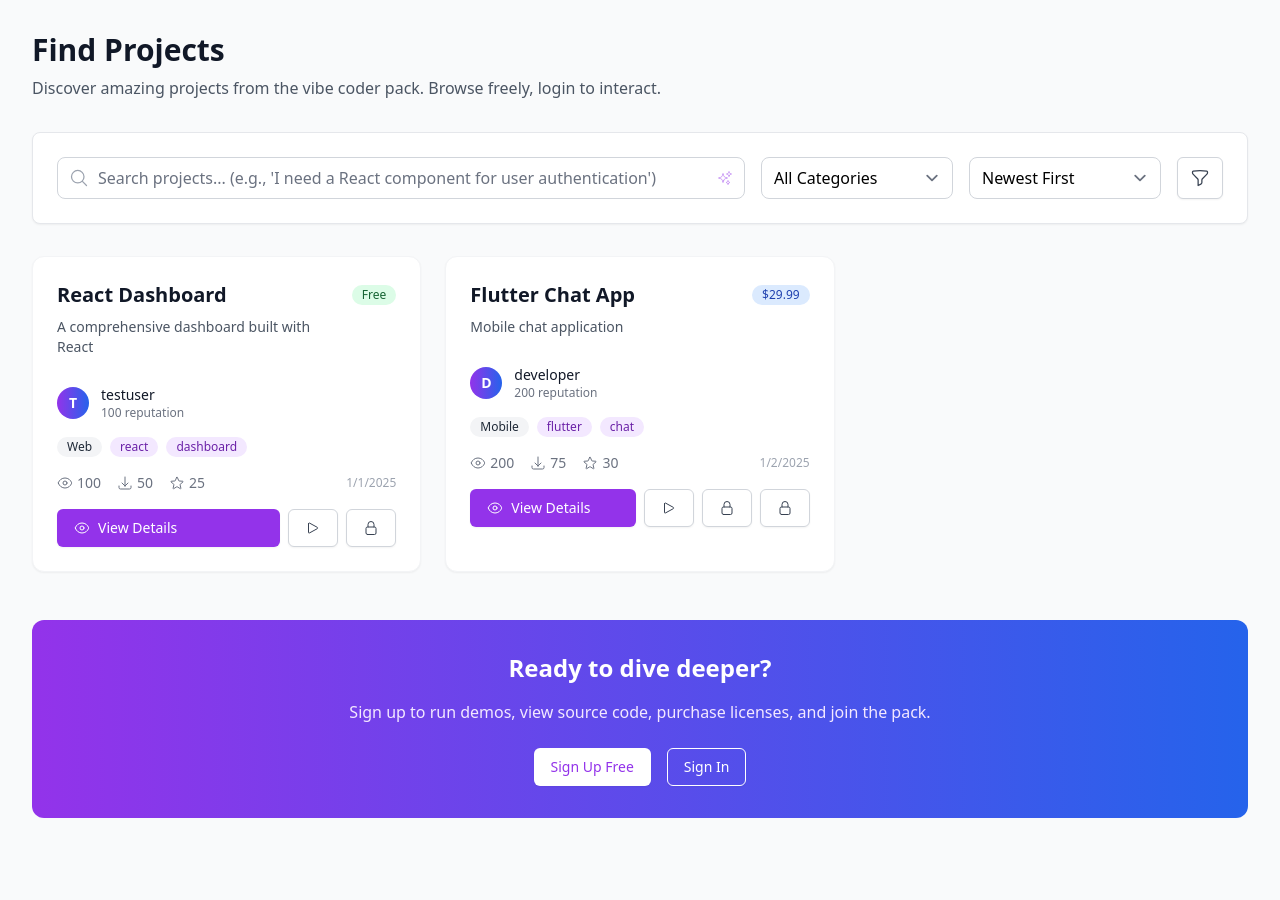
Scenario: FindProjects Component › shows loading state during AI search
The width and height of the screenshot is (1280, 900).
Type "test query" into the field with placeholder "Search projects" at (401, 178), box 57,157 -> 745,199
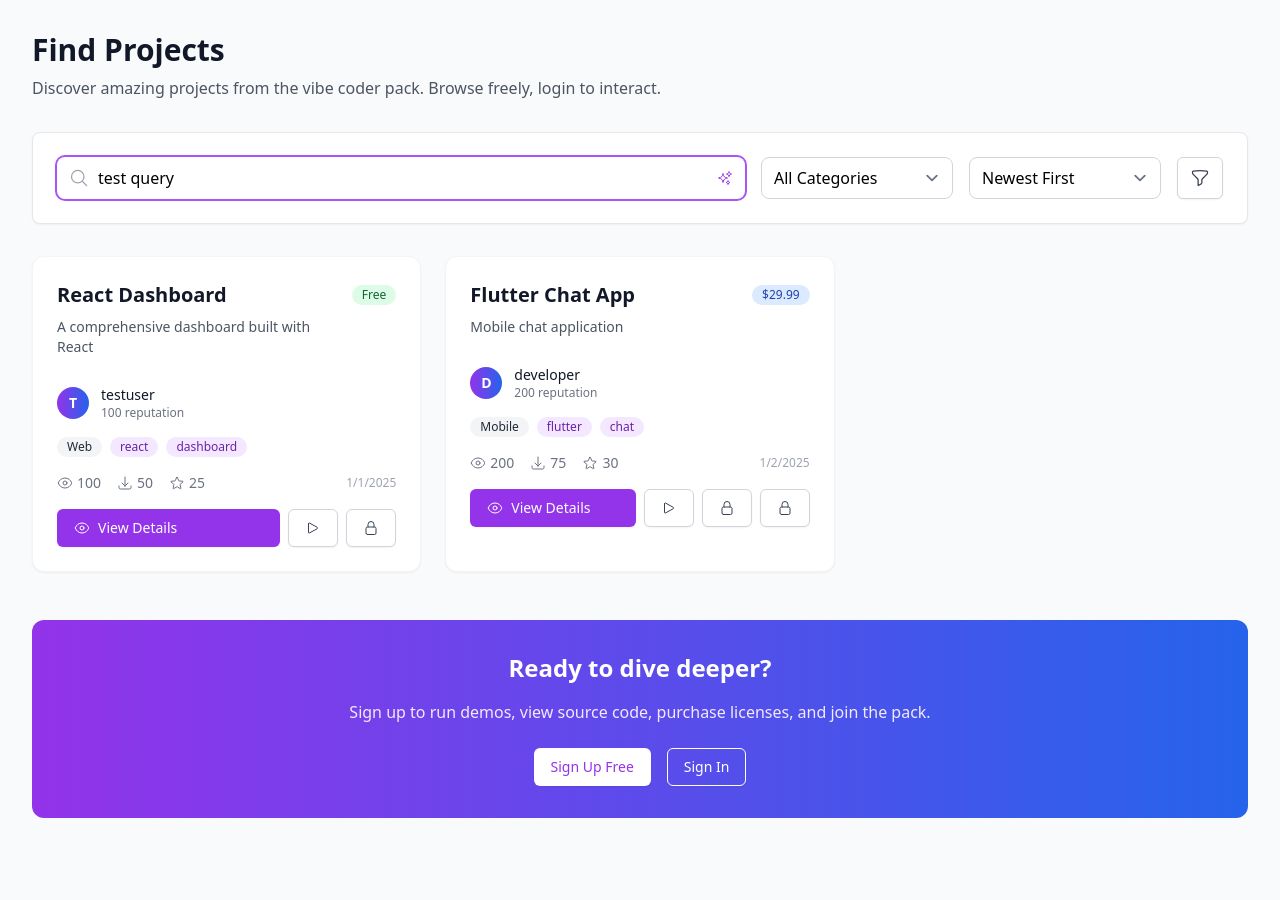
Click the button titled "AI Smart Search" at (725, 178), box 713,166 -> 737,190
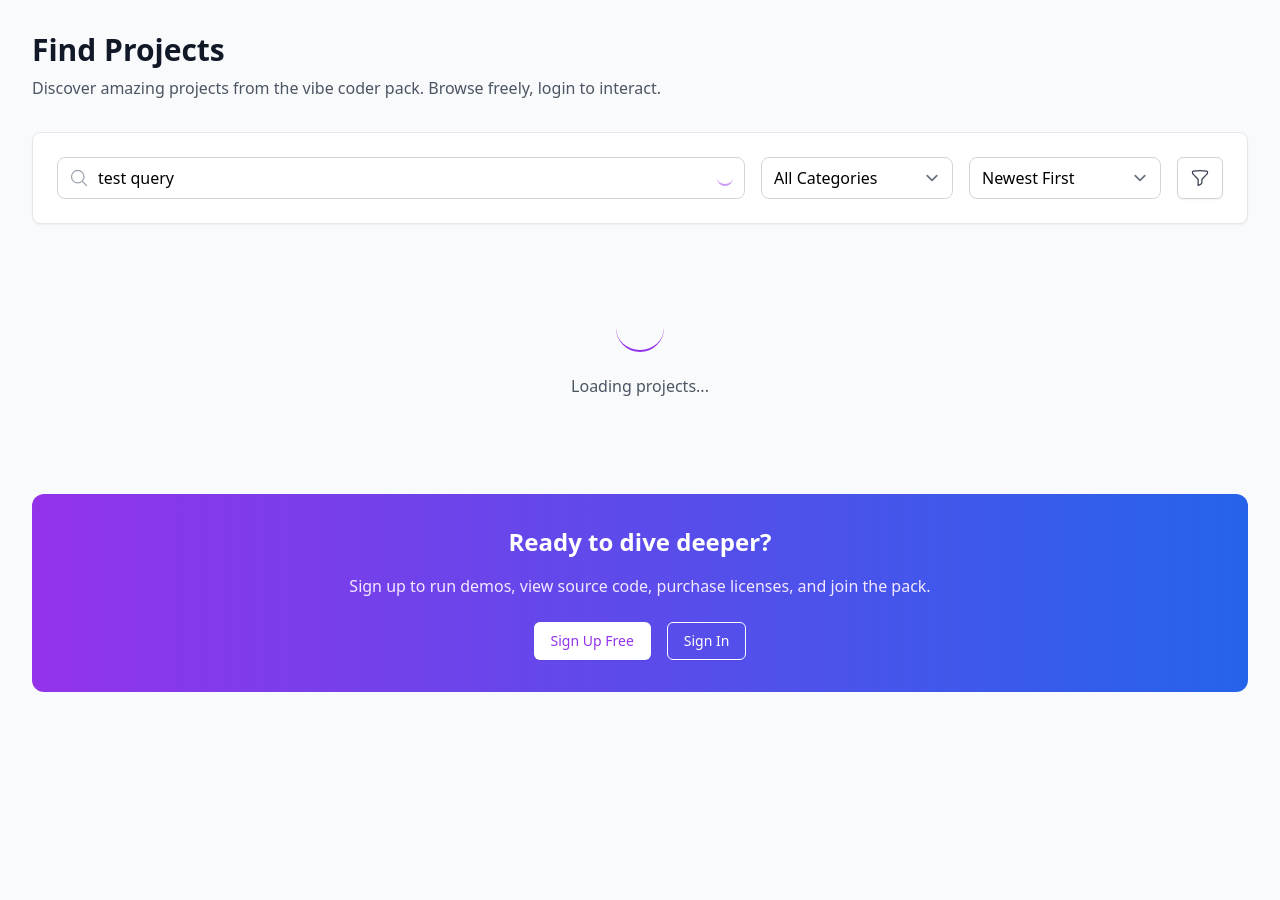
expect the button titled "AI Smart Search" is disabled: met, box 713,166 -> 737,190
